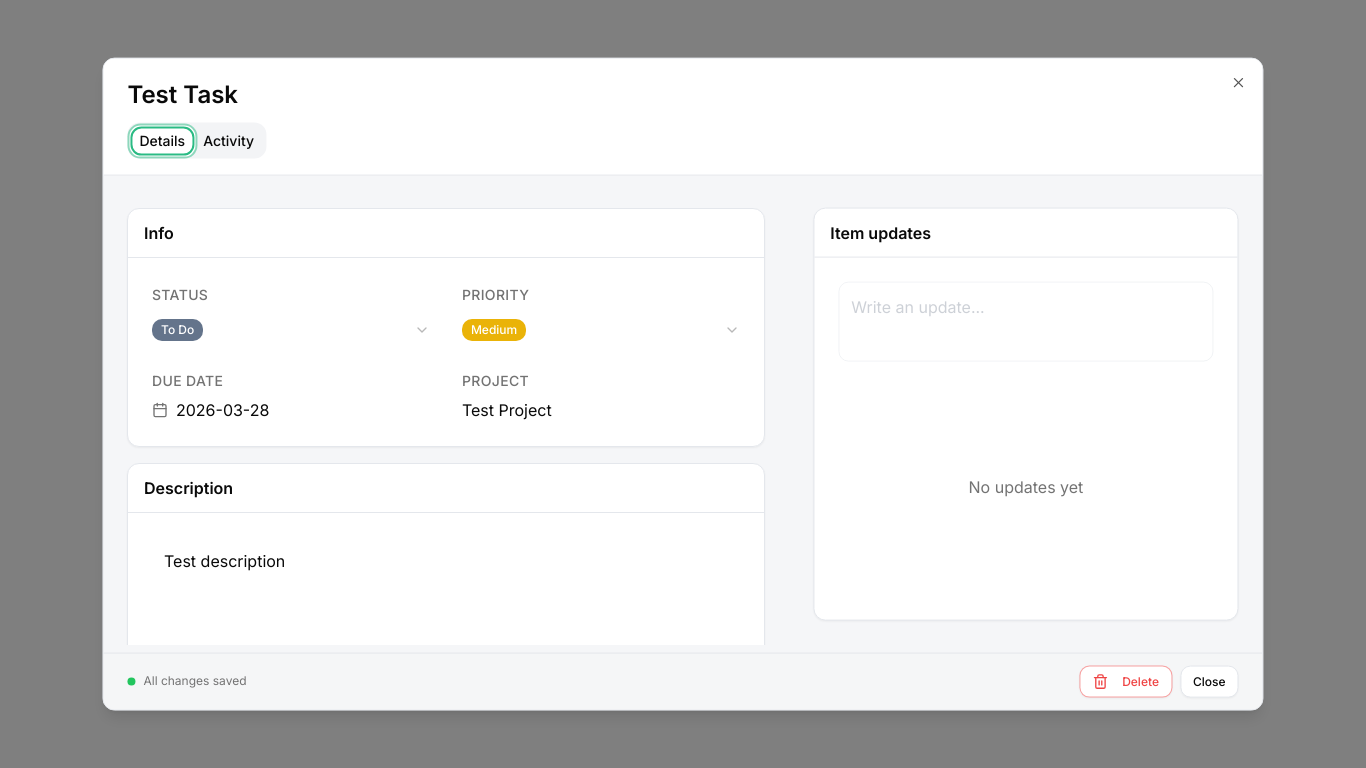
Test: KanbanDetailModal › title editing › enters edit mode when title is clicked
Click the heading "Test Task" at (183, 94), box x1=128 y1=80 x2=238 y2=109
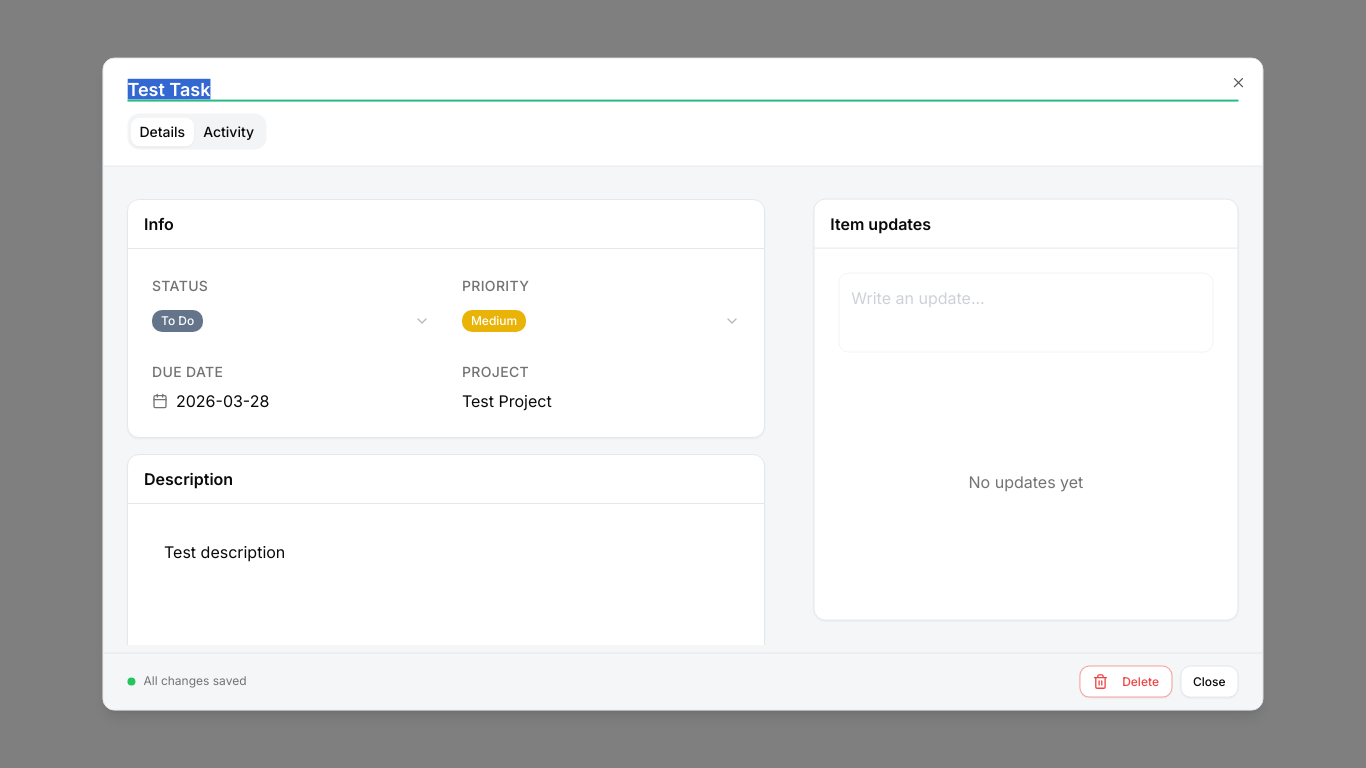
Expected: the field showing "Test Task" is shown, x1=128 y1=79 x2=1239 y2=102
